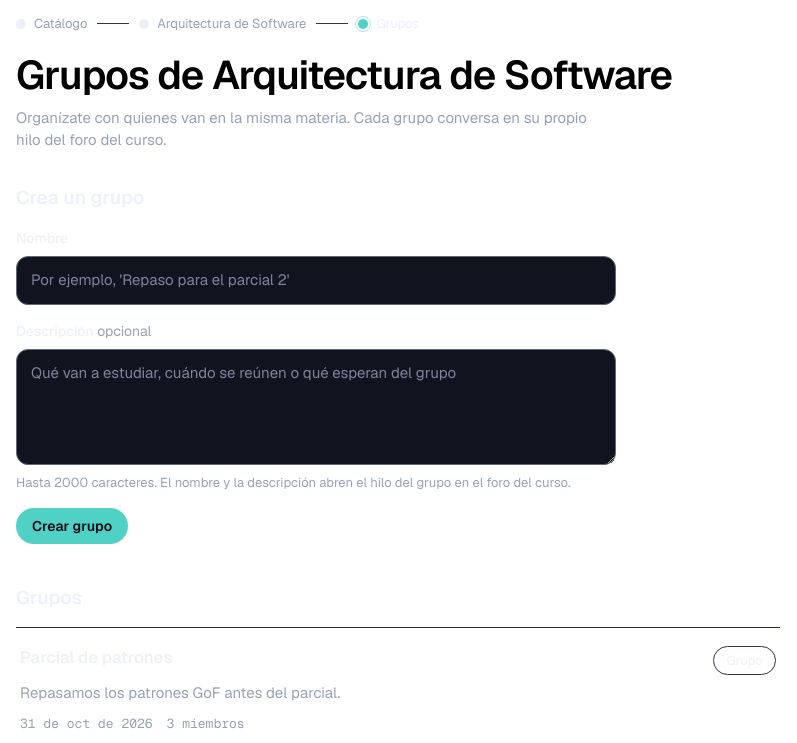
StudyGroupsPage › un nombre repetido en el curso se señala junto al nombre y conserva lo escrito
The width and height of the screenshot is (797, 743).
Expected: the form named "Crear un grupo" is shown, [16,228,616,544]
Type "parcial de patrones" into the field labelled "Nombre" at (316, 280), box [16,256,616,305]
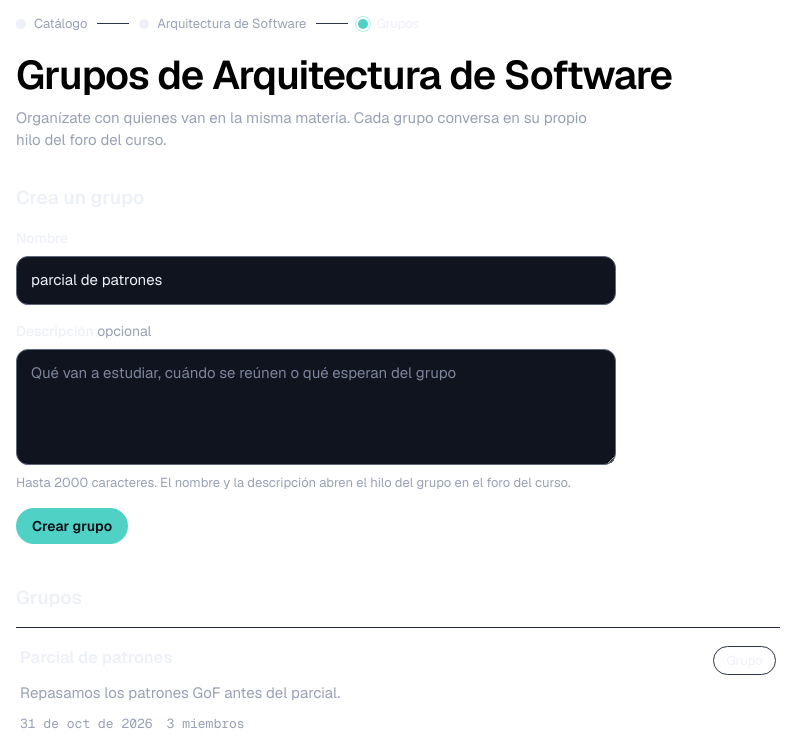
Click the button "Crear grupo" at (72, 526), box [16,508,128,544]
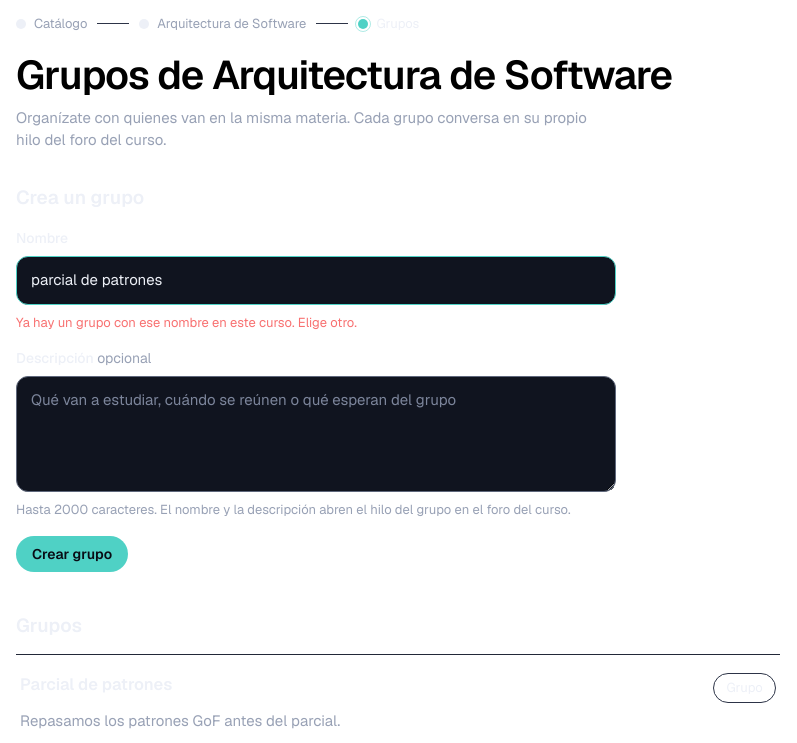
Now the text "Ya hay un grupo con ese nombre en este curso. Elige otro." is shown, box [16,314,357,331]
